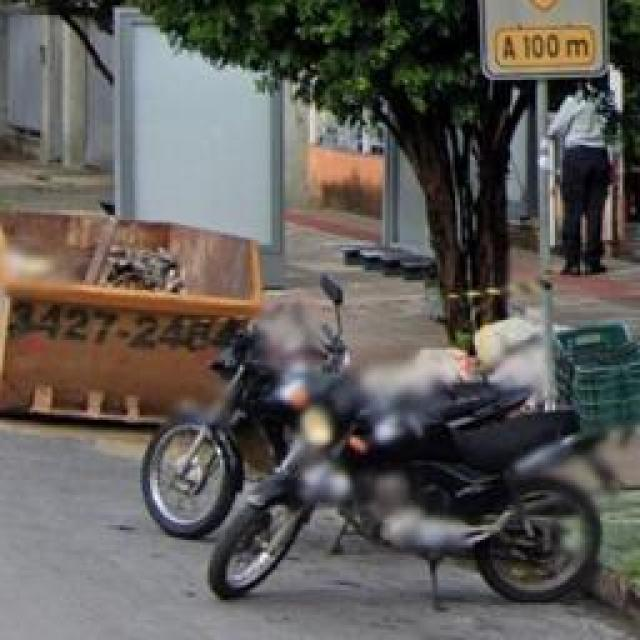motorbike: (212, 384, 585, 604), (146, 300, 322, 548)
